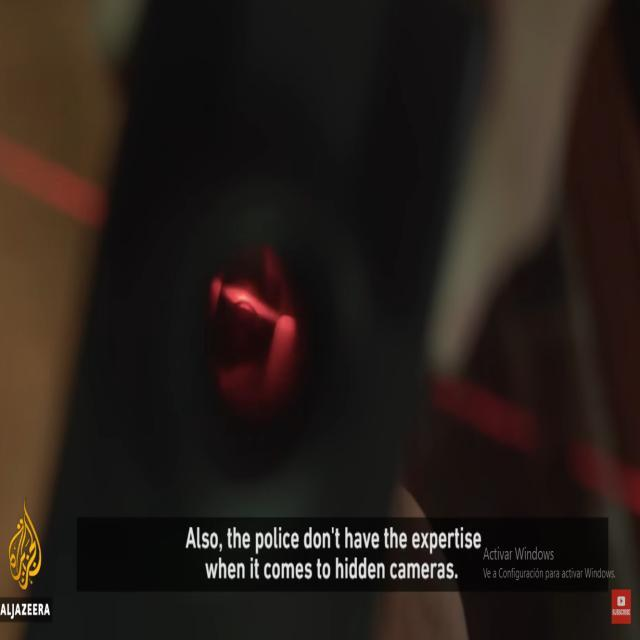hidden camera: (230, 299, 259, 354)
